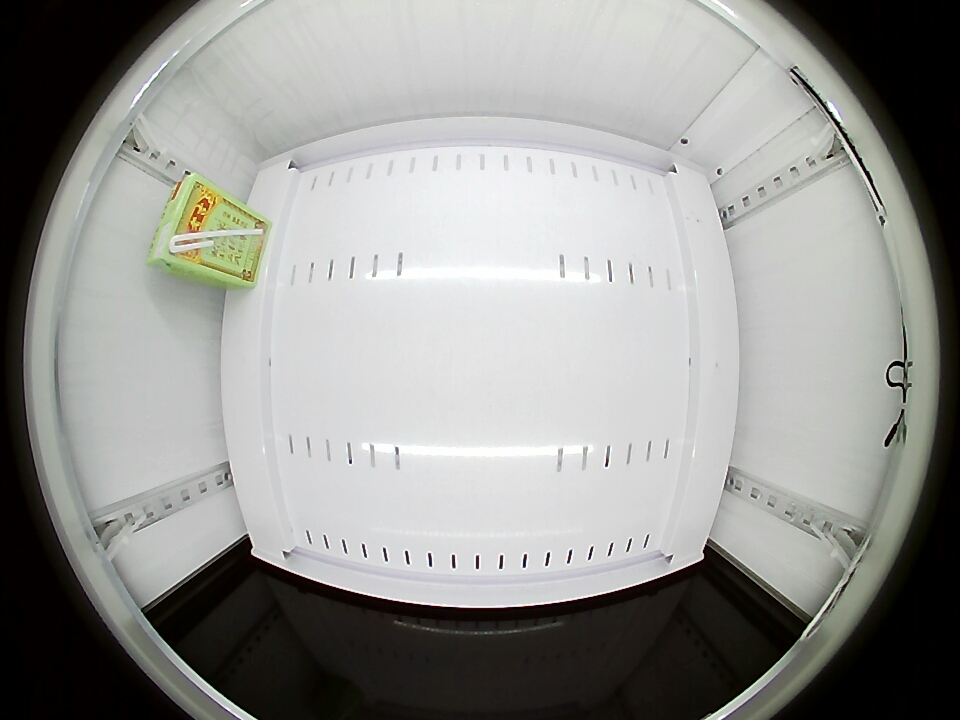wanglaoji: (148, 172, 221, 273)
